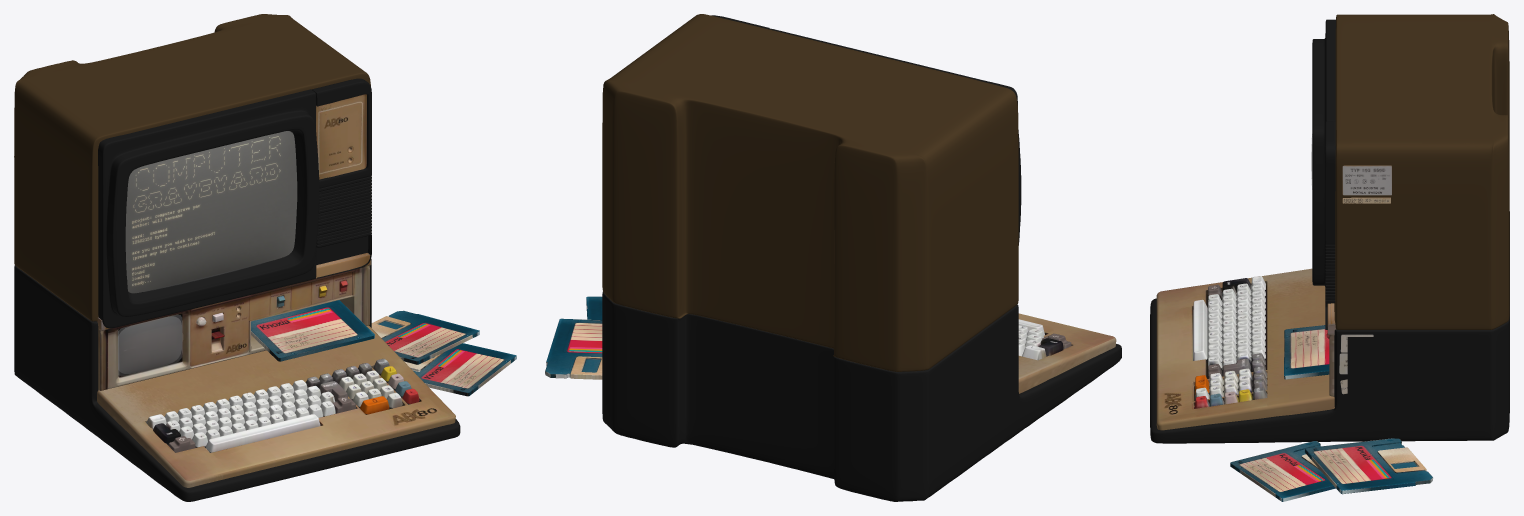
3 views of the same model, side by side, from view 1: azimuth 30°, elevation 25°; view 2: azimuth 150°, elevation 25°; view 3: azimuth 270°, elevation 25° (orthographic). The views are drawn at different scales.
Visible parts, largest first — view 1: Cube_black_bump_0, Cube_black_bump.001_0, Plane.008_Material.002_0, Plane_computer.001_0, Plane.009_screen3_0, Plane.002_computer_0, keyboard_keyboard_0, Plane.012_floppy_0, Plane.012_floppyMetal_0; view 2: Cube_black_bump.001_0, Cube_black_bump_0, Plane_computer.001_0, Plane.012_floppy_0, keyboard_keyboard_0; view 3: Cube_black_bump.001_0, Cube_black_bump_0, Plane_computer.001_0, Plane.012_floppy_0, keyboard_keyboard_0, Plane.014_sticker_0, Plane.012_floppyMetal_0, Plane.002_computer_0, Plane.003_stickers_0.
Boxes of the visible parts, x1,y1,x2,y2 form: Cube_black_bump_0: (14, 78, 460, 501); Cube_black_bump.001_0: (14, 14, 371, 321); Plane.008_Material.002_0: (118, 131, 296, 375); Plane_computer.001_0: (97, 94, 455, 487); Plane.009_screen3_0: (125, 131, 297, 293); Plane.002_computer_0: (97, 253, 371, 390); keyboard_keyboard_0: (146, 358, 419, 452); Plane.012_floppy_0: (251, 300, 516, 396); Plane.012_floppyMetal_0: (371, 316, 442, 371); Cube_black_bump.001_0: (602, 14, 1018, 371); Cube_black_bump_0: (602, 15, 1121, 501); Plane_computer.001_0: (1018, 313, 1116, 393); Plane.012_floppy_0: (545, 296, 602, 379); keyboard_keyboard_0: (1018, 319, 1071, 360); Cube_black_bump.001_0: (1334, 14, 1509, 329); Cube_black_bump_0: (1150, 19, 1509, 443); Plane_computer.001_0: (1156, 268, 1334, 430); Plane.012_floppy_0: (1230, 325, 1433, 501); keyboard_keyboard_0: (1193, 276, 1267, 408); Plane.014_sticker_0: (1342, 165, 1391, 203); Plane.012_floppyMetal_0: (1301, 447, 1426, 473); Plane.002_computer_0: (1326, 303, 1335, 396); Plane.003_stickers_0: (1339, 334, 1373, 394).
Bounding box in the file's own units: 6.43 × 4.62 × 5.03.
Materials: 11 (8 with a texture image).
